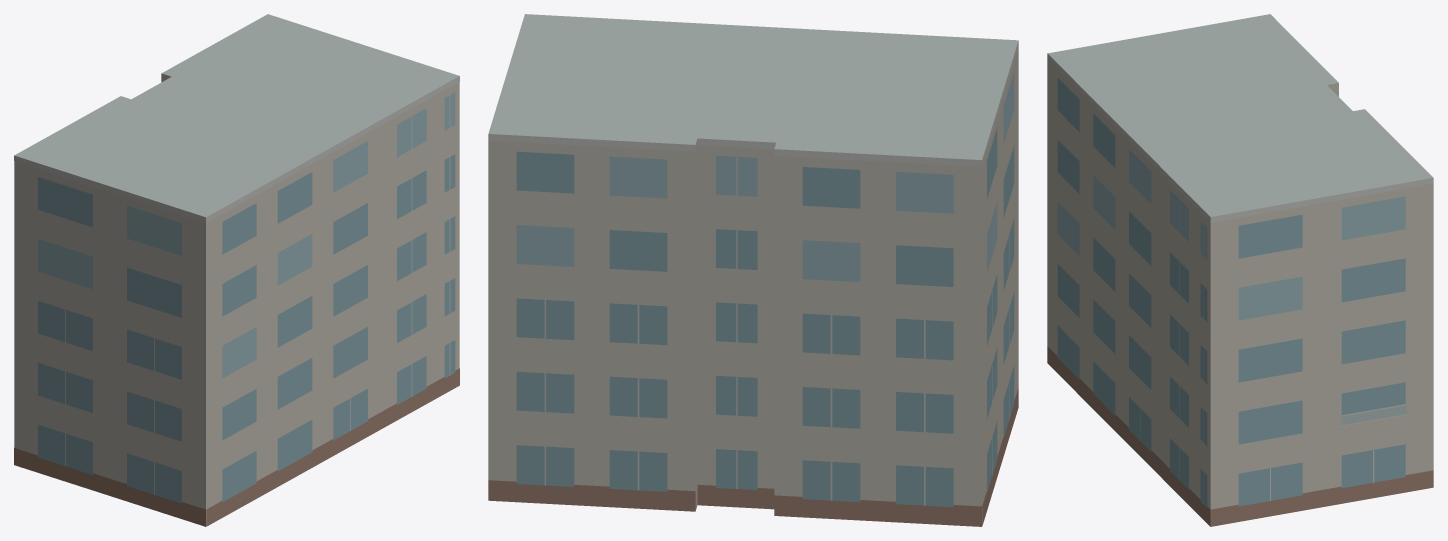
The model's file is survey-upis-32852260.glb.
The picture shows the model from 3 angles, left to right: view 1: azimuth 30°, elevation 25°; view 2: azimuth 150°, elevation 25°; view 3: azimuth 270°, elevation 25°; orthographic projection. The views are drawn at different scales.
Visible parts, largest first — view 1: survey-upis-32852260.tmp; view 2: survey-upis-32852260.tmp; view 3: survey-upis-32852260.tmp.
Part boxes in pixels (<box>): survey-upis-32852260.tmp: <box>14,14,459,526</box>; survey-upis-32852260.tmp: <box>488,14,1018,526</box>; survey-upis-32852260.tmp: <box>1047,14,1433,526</box>.
Bounding box in the file's own units: 18.77 × 13.35 × 15.09.
